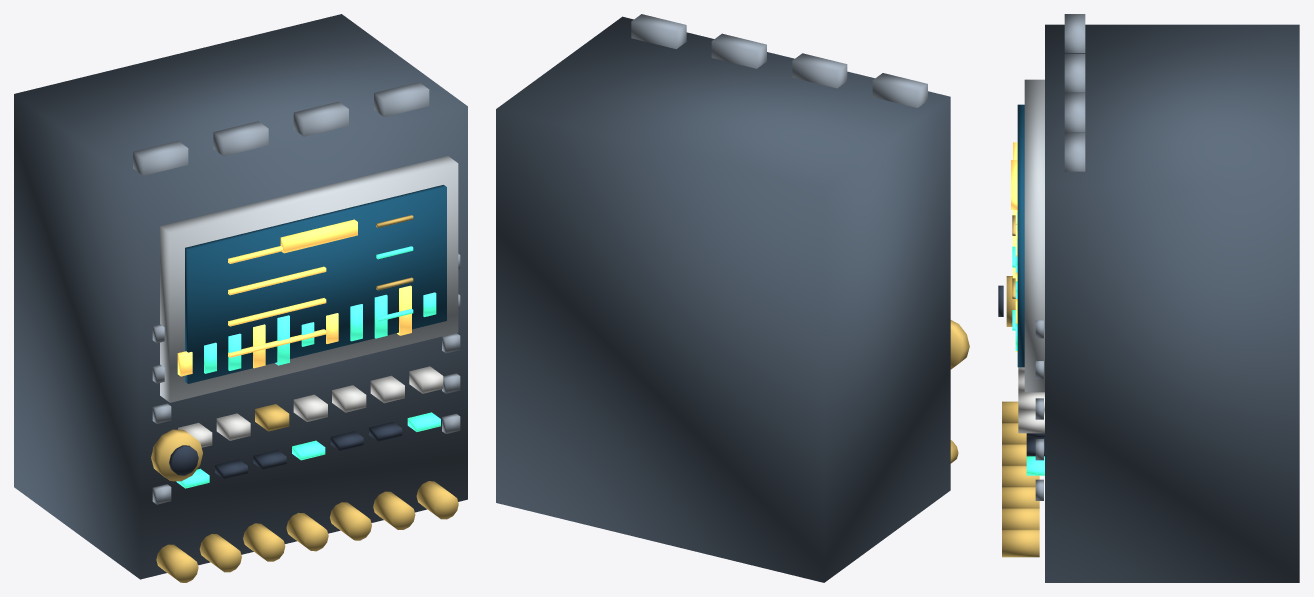
File: 53_L87_BearingHousingTemperatureSensor.glb
3 views of the same model, side by side, from view 1: azimuth 30°, elevation 25°; view 2: azimuth 150°, elevation 25°; view 3: azimuth 270°, elevation 25° (orthographic).
Visible parts, largest first — view 1: L87_BearingHousingTemperature_Part_0000, L87_BearingHousingTemperature_Part_0002, L87_BearingHousingTemperature_Part_0001, L87_BearingHousingTemperature_Part_0004, L87_BearingHousingTemperature_Part_0009, L87_BearingHousingTemperature_Part_0006, L87_BearingHousingTemperature_Part_0010, L87_BearingHousingTemperature_Part_0011, L87_BearingHousingTemperature_Part_0008, L87_BearingHousingTemperature_Part_0003, L87_BearingHousingTemperature_Part_0007, L87_BearingHousingTemperature_Part_0005 (+2 smaller); view 2: L87_BearingHousingTemperature_Part_0000, L87_BearingHousingTemperature_Part_0009, L87_BearingHousingTemperature_Part_0012; view 3: L87_BearingHousingTemperature_Part_0000, L87_BearingHousingTemperature_Part_0001, L87_BearingHousingTemperature_Part_0004, L87_BearingHousingTemperature_Part_0009, L87_BearingHousingTemperature_Part_0002, L87_BearingHousingTemperature_Part_0006, L87_BearingHousingTemperature_Part_0008, L87_BearingHousingTemperature_Part_0005, L87_BearingHousingTemperature_Part_0010.
Boxes of the visible parts, bbox=[...] form: L87_BearingHousingTemperature_Part_0000: bbox=[14, 14, 467, 579]; L87_BearingHousingTemperature_Part_0002: bbox=[185, 185, 446, 383]; L87_BearingHousingTemperature_Part_0001: bbox=[160, 156, 458, 402]; L87_BearingHousingTemperature_Part_0004: bbox=[156, 215, 458, 582]; L87_BearingHousingTemperature_Part_0009: bbox=[133, 82, 429, 175]; L87_BearingHousingTemperature_Part_0006: bbox=[178, 366, 443, 447]; L87_BearingHousingTemperature_Part_0010: bbox=[177, 219, 411, 376]; L87_BearingHousingTemperature_Part_0011: bbox=[204, 292, 436, 373]; L87_BearingHousingTemperature_Part_0008: bbox=[152, 254, 460, 504]; L87_BearingHousingTemperature_Part_0003: bbox=[228, 246, 326, 357]; L87_BearingHousingTemperature_Part_0007: bbox=[215, 422, 402, 478]; L87_BearingHousingTemperature_Part_0005: bbox=[176, 246, 440, 488]; L87_BearingHousingTemperature_Part_0000: bbox=[496, 16, 950, 582]; L87_BearingHousingTemperature_Part_0009: bbox=[631, 14, 927, 107]; L87_BearingHousingTemperature_Part_0012: bbox=[950, 320, 969, 369]; L87_BearingHousingTemperature_Part_0000: bbox=[1045, 24, 1299, 582]; L87_BearingHousingTemperature_Part_0001: bbox=[1024, 79, 1044, 392]; L87_BearingHousingTemperature_Part_0004: bbox=[1002, 215, 1039, 557]; L87_BearingHousingTemperature_Part_0009: bbox=[1064, 14, 1085, 171]; L87_BearingHousingTemperature_Part_0002: bbox=[1017, 104, 1024, 367]; L87_BearingHousingTemperature_Part_0006: bbox=[1018, 367, 1044, 433]; L87_BearingHousingTemperature_Part_0008: bbox=[1035, 320, 1043, 500]; L87_BearingHousingTemperature_Part_0005: bbox=[1012, 246, 1044, 475]; L87_BearingHousingTemperature_Part_0010: bbox=[1011, 160, 1017, 351].
Bounding box in the file's own units: 0.9695 × 1.16 × 0.765.
